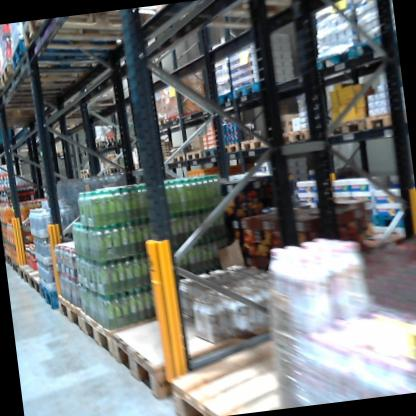pallet: (104, 290, 314, 408), (167, 326, 354, 416), (21, 4, 173, 65), (84, 299, 194, 374), (7, 23, 145, 79), (0, 53, 86, 96), (0, 68, 91, 101), (0, 96, 56, 129), (231, 73, 288, 101), (0, 85, 55, 113), (310, 45, 358, 76), (54, 292, 86, 336), (351, 29, 396, 59), (323, 113, 370, 141), (364, 104, 405, 136), (40, 280, 62, 313), (26, 269, 48, 299), (19, 261, 44, 286), (292, 124, 323, 144), (178, 105, 214, 122), (240, 134, 269, 154), (217, 137, 241, 155), (210, 90, 232, 108), (43, 149, 73, 162), (184, 145, 202, 164), (201, 146, 220, 162), (161, 110, 181, 125), (276, 130, 293, 147), (153, 113, 168, 128), (10, 256, 20, 275), (170, 153, 187, 164), (93, 138, 106, 148), (106, 135, 117, 146), (109, 165, 121, 174), (101, 165, 110, 177), (102, 141, 117, 148), (6, 253, 13, 267), (86, 173, 96, 179), (78, 169, 86, 175), (85, 167, 90, 175), (79, 173, 86, 178)
